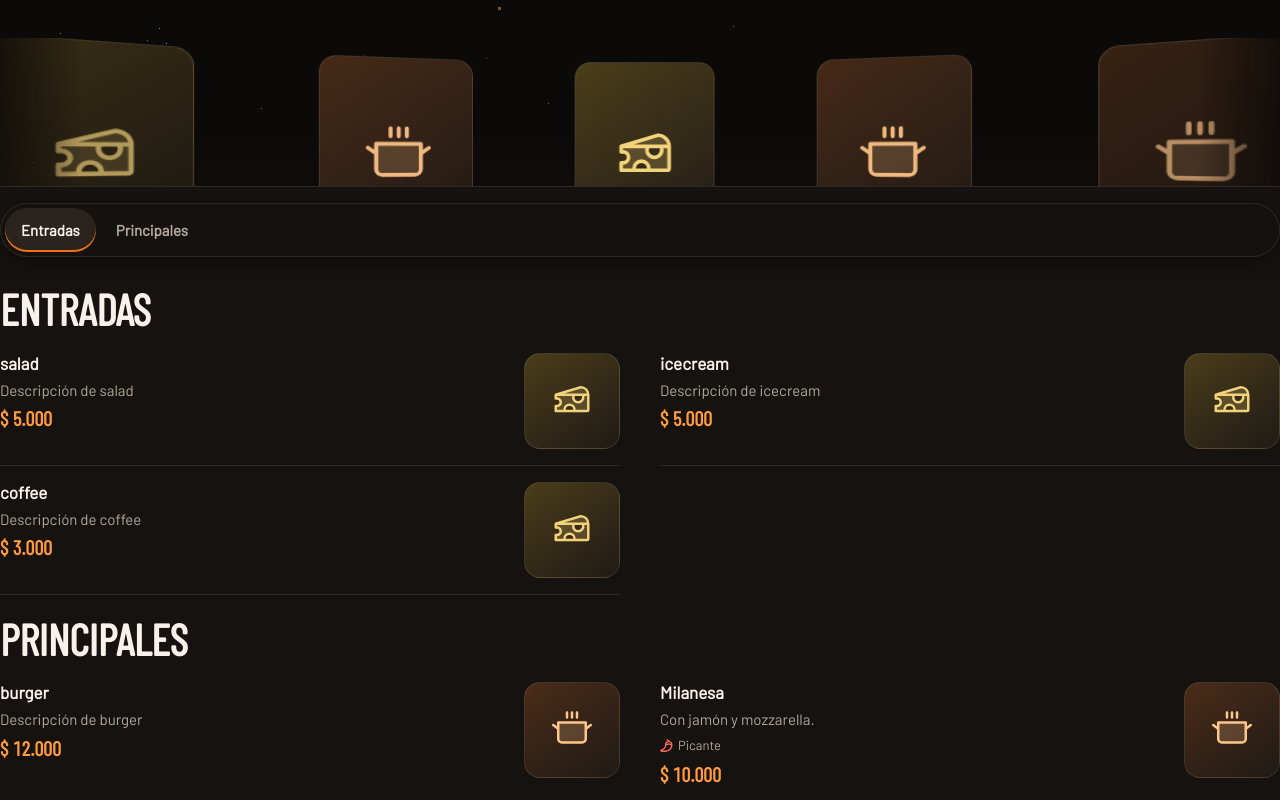
Test case: DishSheet: ficha del plato (RF2, RF6, RF14-RF20, RF34, RF43) › abrir y cerrar (RF14, RF43) › un plato sin opciones abre una ficha simple, lista para agregar
The width and height of the screenshot is (1280, 800).
(page scrolled)
Expected: the navigation bar is shown, [0,203,1279,257]
Click the button "salad Descripción de salad $ 5.000" at (19, 363), box [0,337,620,465]
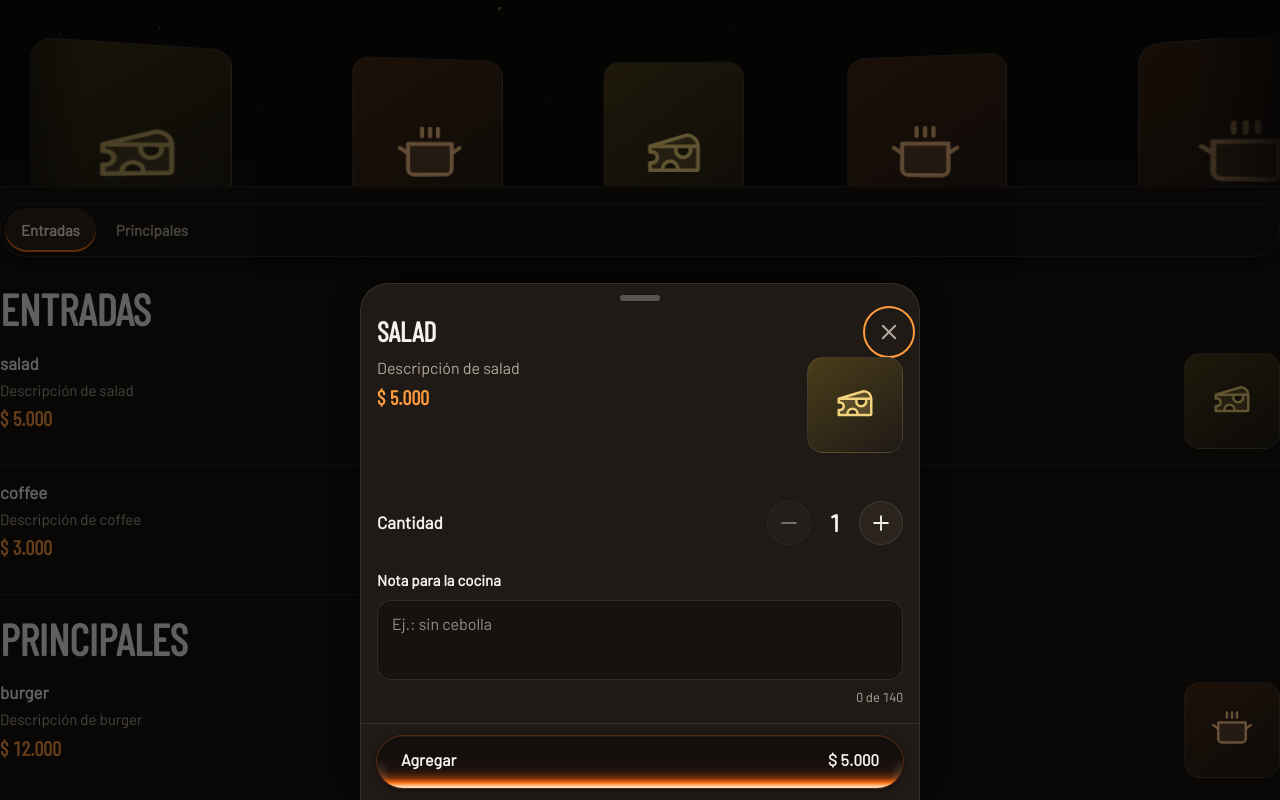
Now the button "Agregar $ 5.000" is enabled, box [377,736,903,788]
